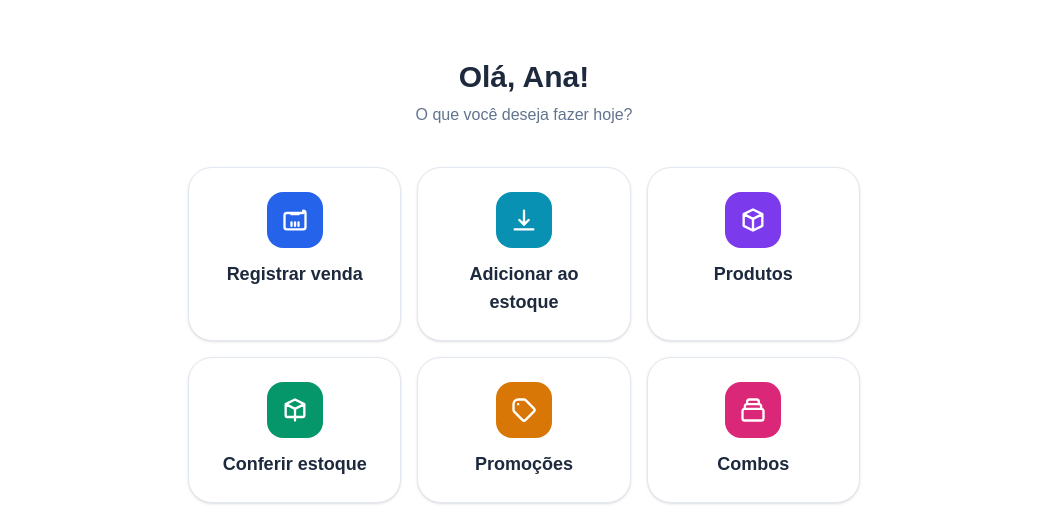
Scenario: SimplesAssistant › navega para o ProdutoHub com os produtos recebidos ao clicar em 'Produtos'
Click the button "Produtos".
click(753, 254)  # box 647,167 -> 860,341
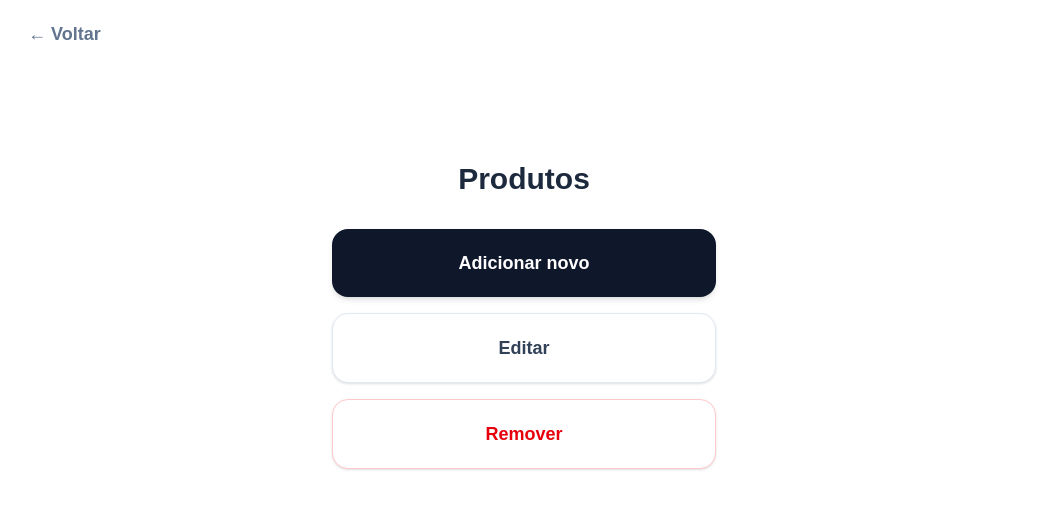
Expected: the heading "Produtos" is shown, 458,161 -> 590,197
Click the button "Editar".
click(524, 348)  # box 332,313 -> 716,383
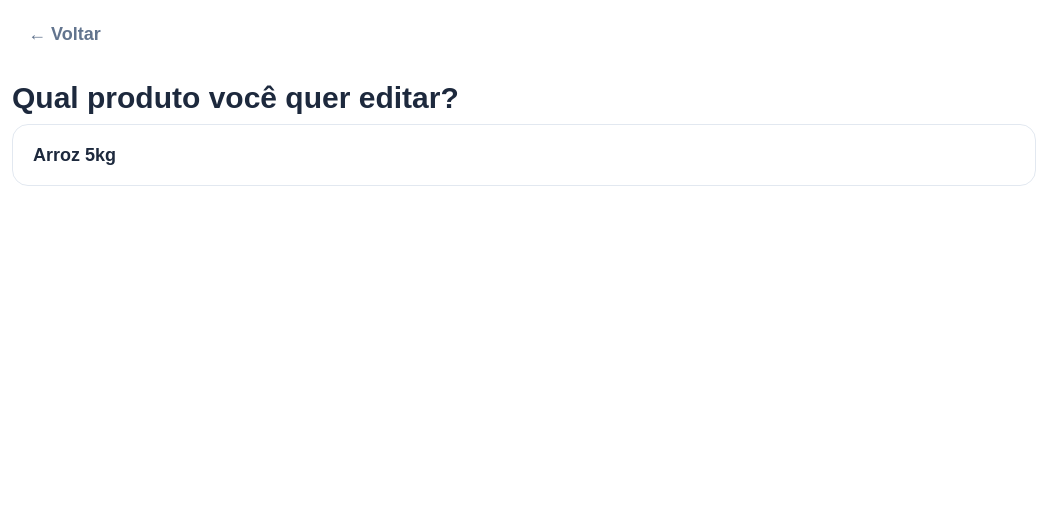
Expected: the text "Arroz 5kg" is shown, 33,141 -> 116,169
